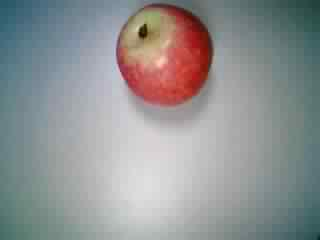apple: (110, 5, 215, 107)
